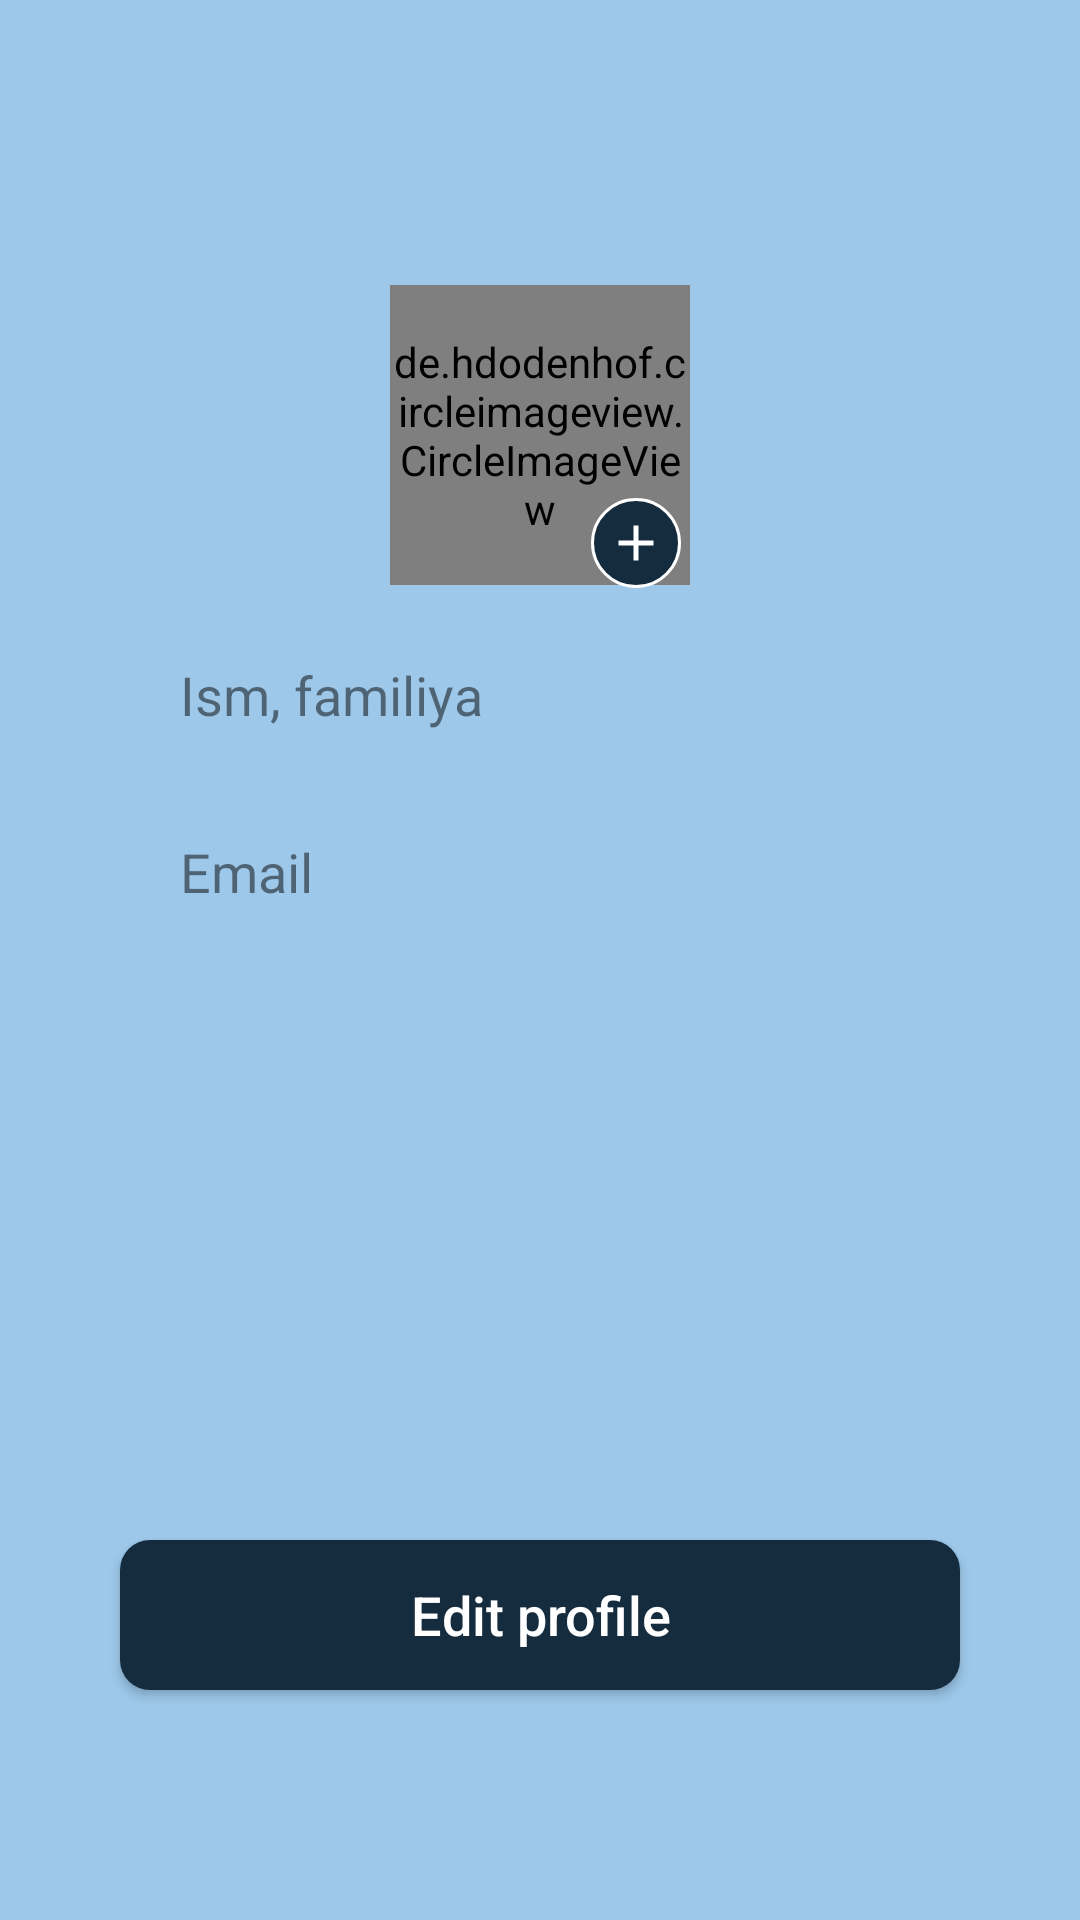

Point at icon controls on the screen. Image size 1080px x 1920px, points as [x,y].
plus: [636,543]
